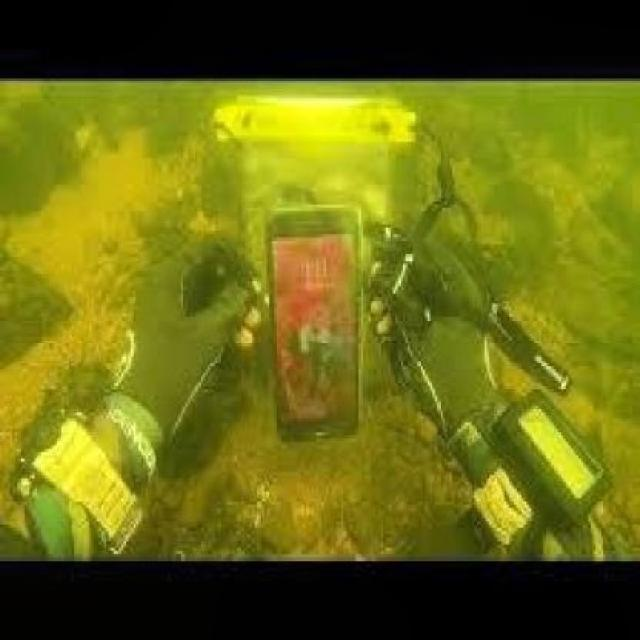cellphone: (265, 194, 366, 446)
